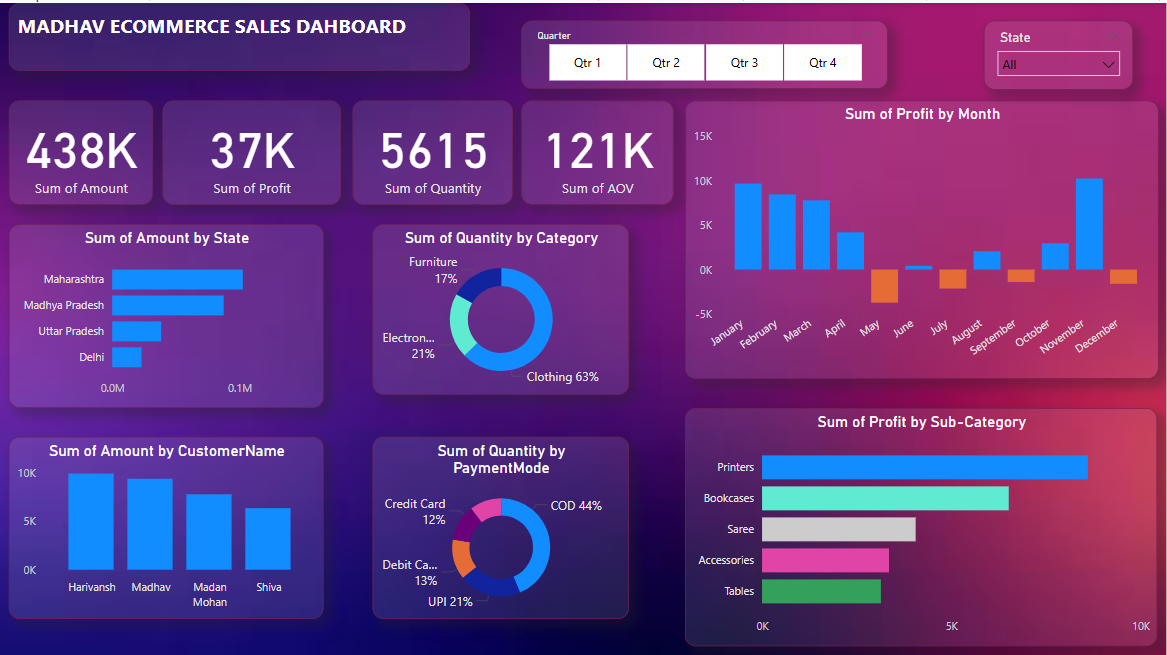

What the dashboard file says about the page in this screenshot:
{"tool":"powerbi","page":{"name":"Page 1","canvas":[1280,720],"ordinal":0},"visuals":[{"type":"textbox","box":[9.6,0,506.3,74.1],"z":0},{"type":"columnChart","fields":{"Y":["Details.Profit"],"Category":["Orders.Order Date.Variation.Date Hierarchy.Month"]},"box":[751.4,107.1,520,305.7],"z":1000},{"type":"barChart","fields":{"Category":["Details.Sub-Category"],"Y":["Details.Profit"]},"box":[751.4,444.3,518.6,261.4],"z":2000},{"type":"donutChart","fields":{"Category":["Details.Category"],"Y":["Details.Quantity"]},"box":[408.6,242.9,281.4,187.1],"z":3000},{"type":"donutChart","fields":{"Category":["Details.PaymentMode","Details.Category"],"Y":["Details.Quantity"]},"box":[408.6,475.7,281.4,200],"z":4000},{"type":"card","fields":{"Values":["Details.Amount"]},"box":[10,107.1,158.6,114.3],"z":5000},{"type":"card","fields":{"Values":["Details.Quantity"]},"box":[387.1,107.1,175.7,114.3],"z":6000},{"type":"card","fields":{"Values":["Details.Profit"]},"box":[178.6,107.1,195.7,114.3],"z":7000},{"type":"card","fields":{"Values":["Details.AOV"]},"box":[572.9,107.1,167.1,114.3],"z":8000},{"type":"barChart","fields":{"Category":["Orders.State"],"Y":["Details.Amount"]},"box":[10,242.9,310,201.4],"z":9000},{"type":"columnChart","fields":{"Category":["Orders.CustomerName"],"Y":["Details.Amount"]},"box":[10,476,310,200],"z":10000},{"type":"slicer","fields":{"Values":["Orders.Order Date.Variation.Date Hierarchy.Quarter"]},"box":[572.9,18.6,401.4,75.7],"z":11000},{"type":"slicer","fields":{"Values":["Orders.State"]},"box":[1080,18.6,164.3,75.7],"z":12000}]}

Visuals, with their boxes in screenshot pixels (x1, y1, x2, y2), scaled from the page's 1280x720 canvas onto the 1167x655 screenshot:
textbox: {"left": 9, "top": 0, "right": 470, "bottom": 67}
columnChart - Details.Profit x Orders.Order Date.Variation.Date Hierarchy.Month: {"left": 685, "top": 97, "right": 1159, "bottom": 376}
barChart - Details.Sub-Category x Details.Profit: {"left": 685, "top": 404, "right": 1158, "bottom": 642}
donutChart - Details.Category x Details.Quantity: {"left": 373, "top": 221, "right": 629, "bottom": 391}
donutChart - Details.PaymentMode x Details.Category: {"left": 373, "top": 433, "right": 629, "bottom": 615}
card - Details.Amount: {"left": 9, "top": 97, "right": 154, "bottom": 201}
card - Details.Quantity: {"left": 353, "top": 97, "right": 513, "bottom": 201}
card - Details.Profit: {"left": 163, "top": 97, "right": 341, "bottom": 201}
card - Details.AOV: {"left": 522, "top": 97, "right": 675, "bottom": 201}
barChart - Orders.State x Details.Amount: {"left": 9, "top": 221, "right": 292, "bottom": 404}
columnChart - Orders.CustomerName x Details.Amount: {"left": 9, "top": 433, "right": 292, "bottom": 615}
slicer - Orders.Order Date.Variation.Date Hierarchy.Quarter: {"left": 522, "top": 17, "right": 888, "bottom": 86}
slicer - Orders.State: {"left": 985, "top": 17, "right": 1134, "bottom": 86}
